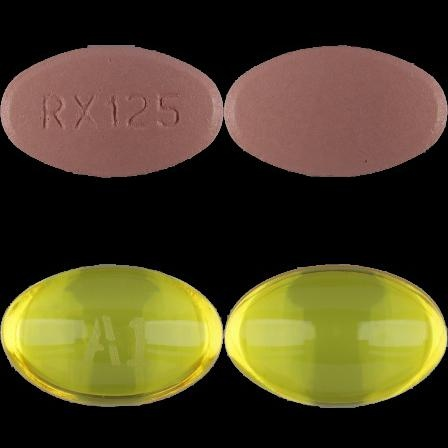51655-751: (0, 0, 224, 224)
